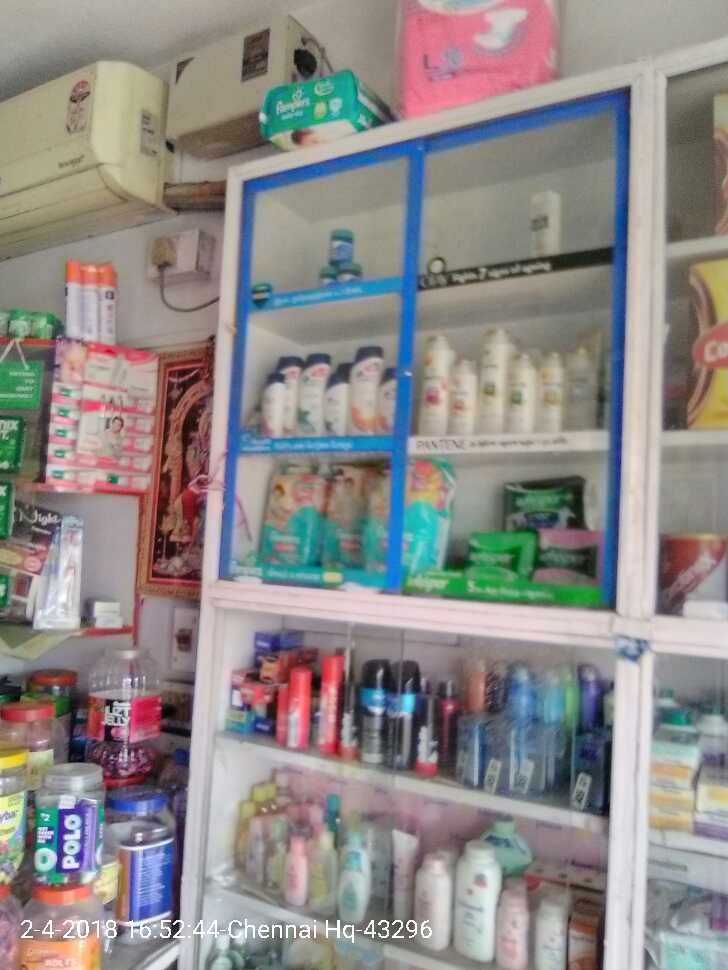vicks: (316, 226, 363, 280)
